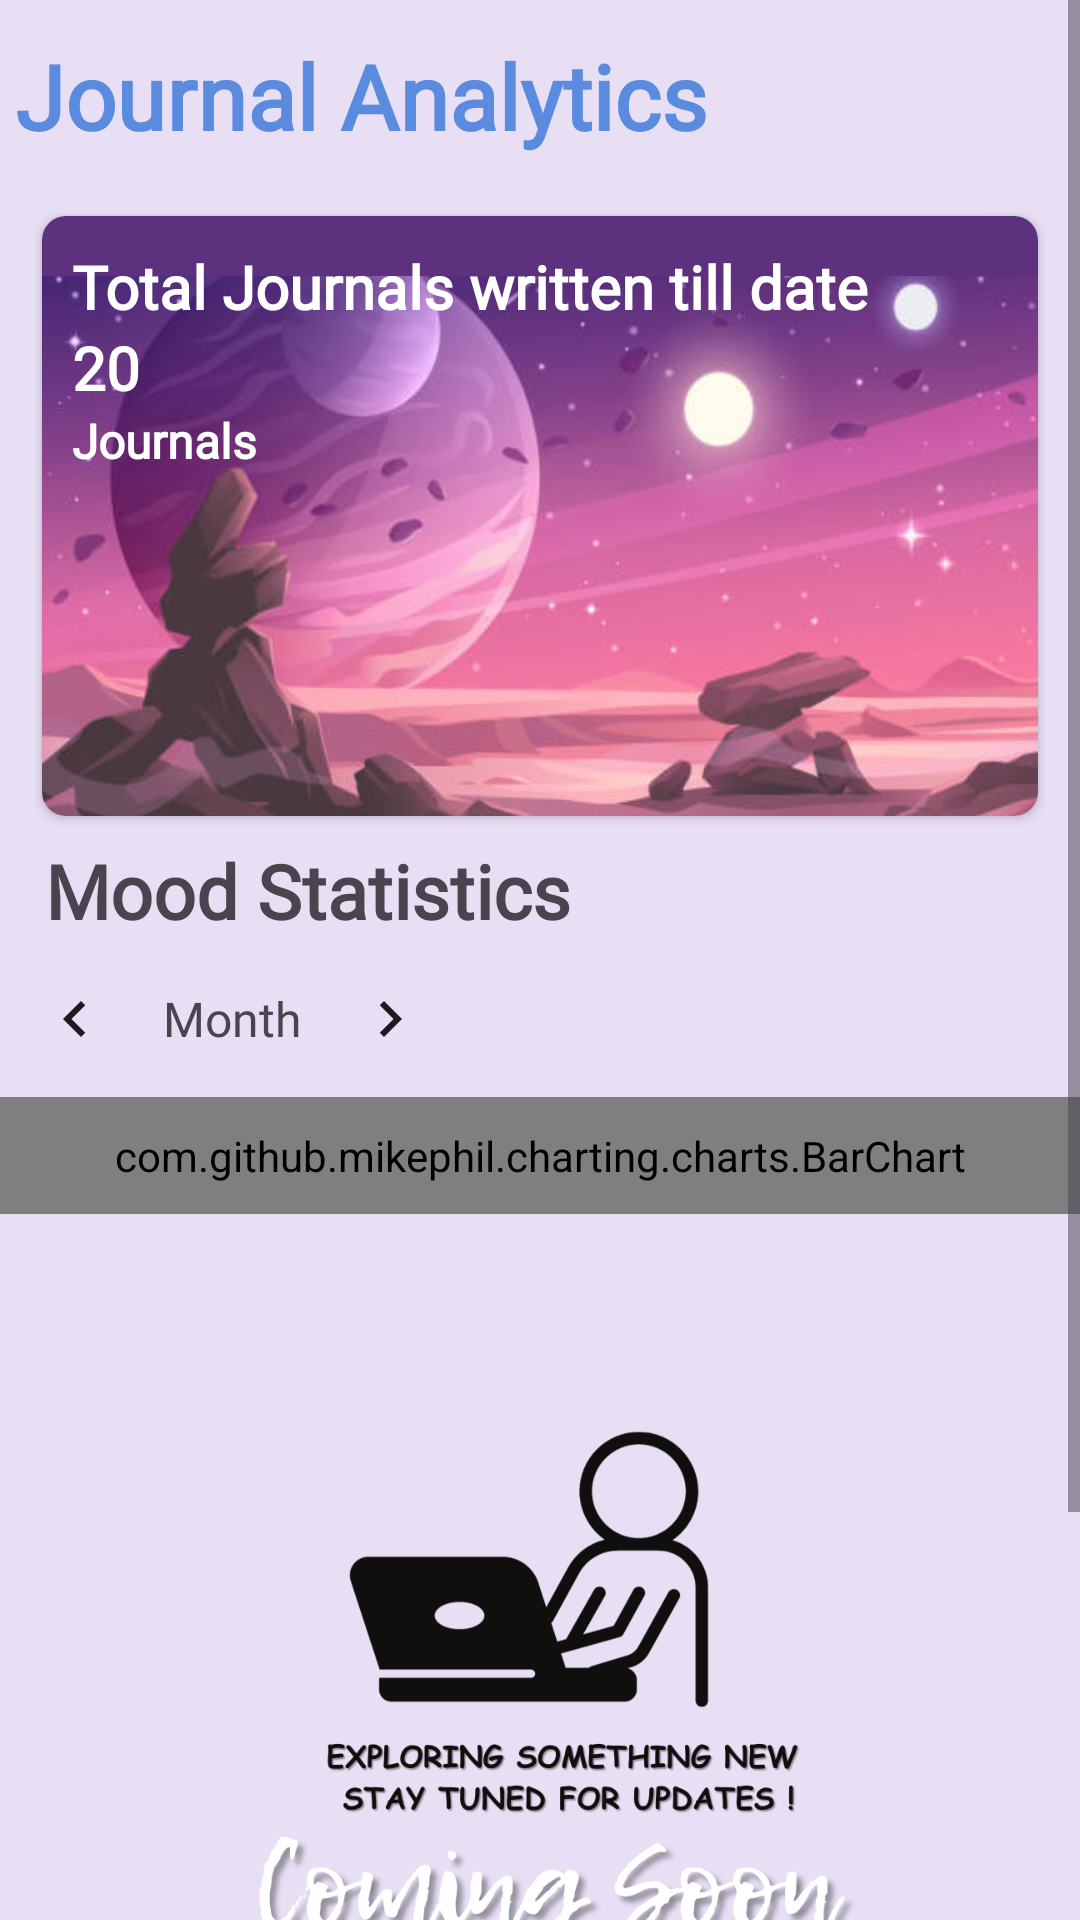

Named icons in this screenshot (1080 x 1920) and their centers, (x=x, y=y):
left arrow: (x=74, y=1019)
right arrow: (x=391, y=1019)
